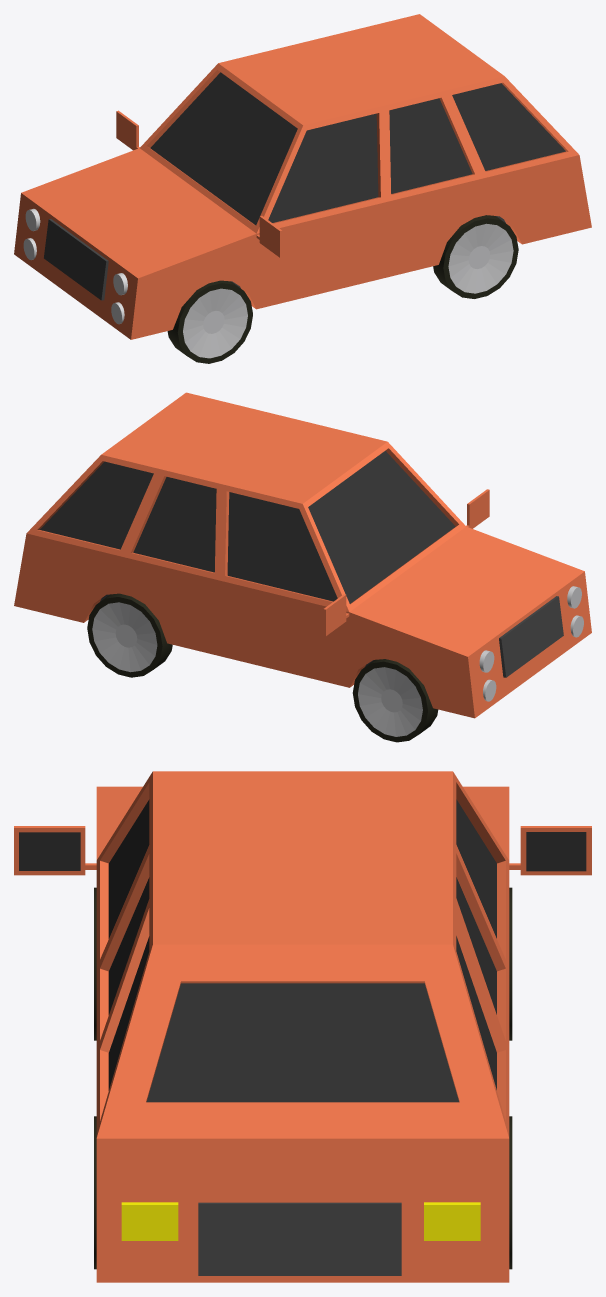
File: car2.FBX
The picture shows the model from 3 angles, top to bottom: view 1: azimuth 30°, elevation 25°; view 2: azimuth 150°, elevation 25°; view 3: azimuth 270°, elevation 25°; orthographic projection. The views are drawn at different scales.
Parts seen in each view (by area): view 1: car2; view 2: car2; view 3: car2.
Boxes of the visible parts, x1=… form: car2: x1=14, y1=14, x2=591, y2=363; car2: x1=14, y1=392, x2=591, y2=742; car2: x1=14, y1=771, x2=591, y2=1282.
Size of the model in its own units: 10.05 by 4.13 by 6.16.
